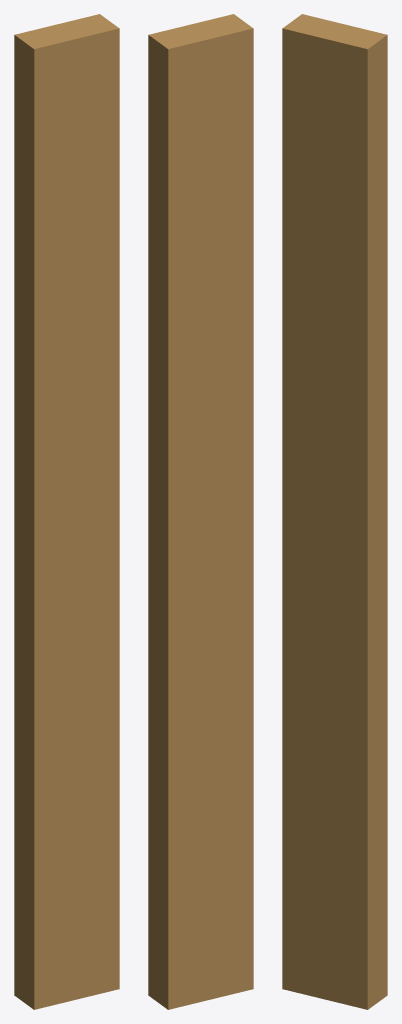
The picture shows the model from 3 angles, left to right: view 1: azimuth 30°, elevation 25°; view 2: azimuth 210°, elevation 25°; view 3: azimuth 330°, elevation 25°; orthographic projection.
Parts seen in each view (by area): view 1: FF-W182; view 2: FF-W182; view 3: FF-W182.
Boxes of the visible parts, left/top/right/bottom form: FF-W182: left=14, top=14, right=119, bottom=1009; FF-W182: left=148, top=14, right=253, bottom=1009; FF-W182: left=282, top=14, right=387, bottom=1009.
Bounding box in the file's own units: 0.225 × 2.42 × 0.09.
